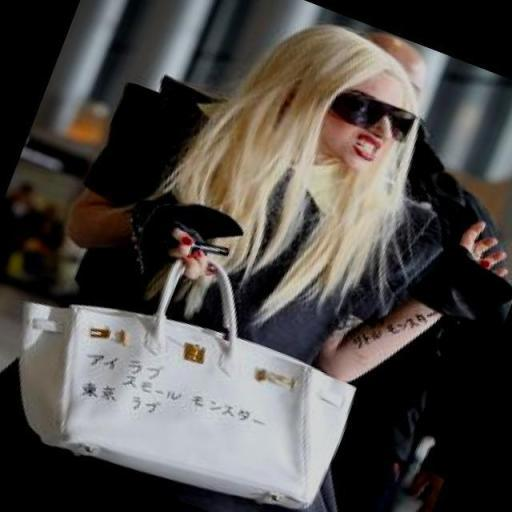bag: (8, 251, 367, 503)
